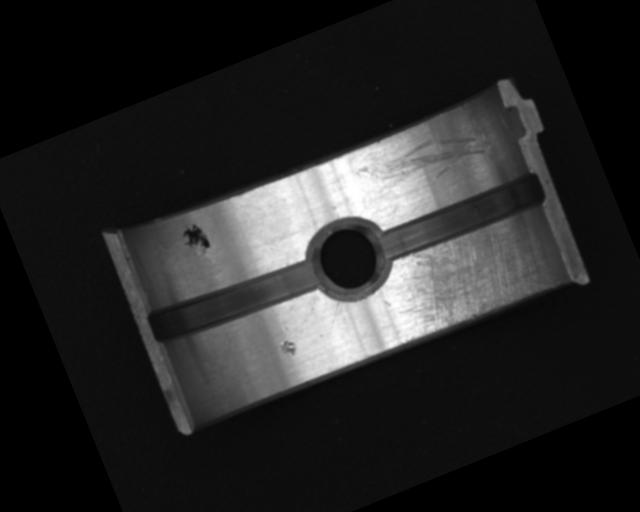blot: (176, 218, 213, 260)
bruise: (276, 336, 300, 361)
gap: (144, 249, 327, 352), (371, 166, 550, 268)
hole: (296, 205, 401, 309)
nick: (354, 119, 488, 206), (315, 299, 351, 337)
scratch: (368, 203, 565, 350)
